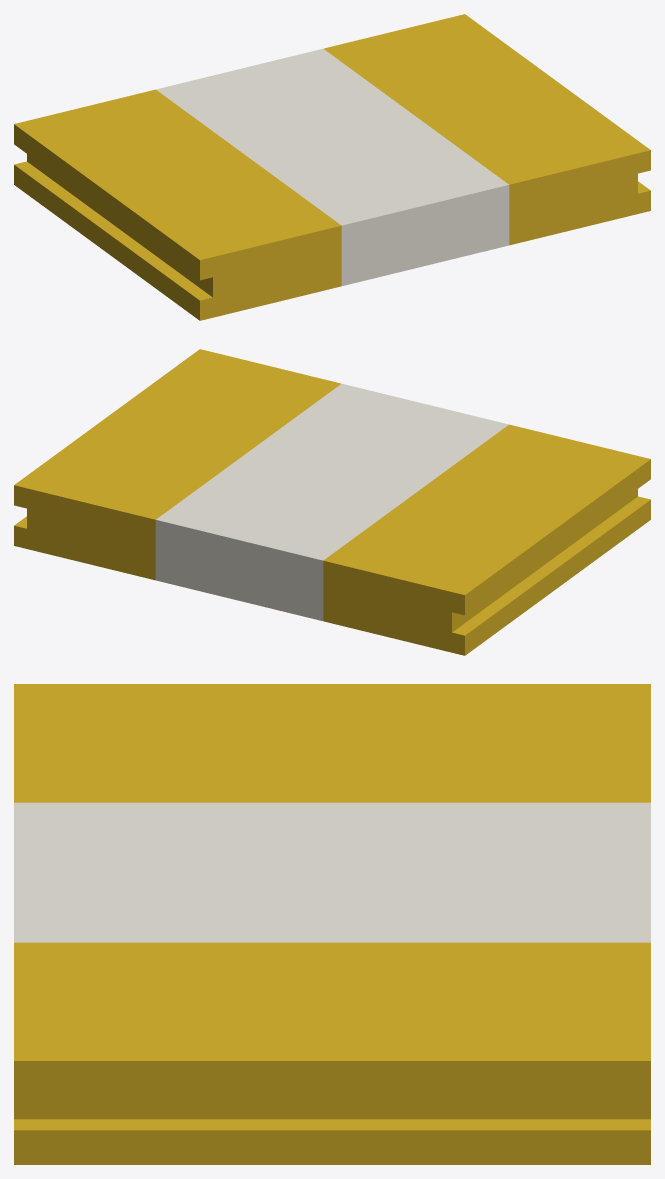
The model's file is rain_poncho.glb.
3 renders of one model, top to bottom at view 1: azimuth 30°, elevation 25°; view 2: azimuth 150°, elevation 25°; view 3: azimuth 270°, elevation 25°, orthographic. The views are drawn at different scales.
Visible parts, largest first — view 1: rain_poncho:compound; view 2: rain_poncho:compound; view 3: rain_poncho:compound.
Boxes of the visible parts, bbox=[...] form: rain_poncho:compound: bbox=[14, 14, 650, 320]; rain_poncho:compound: bbox=[14, 349, 650, 655]; rain_poncho:compound: bbox=[14, 684, 650, 1164].
Size of the model in its own units: 0.14 by 0.018 by 0.1.
